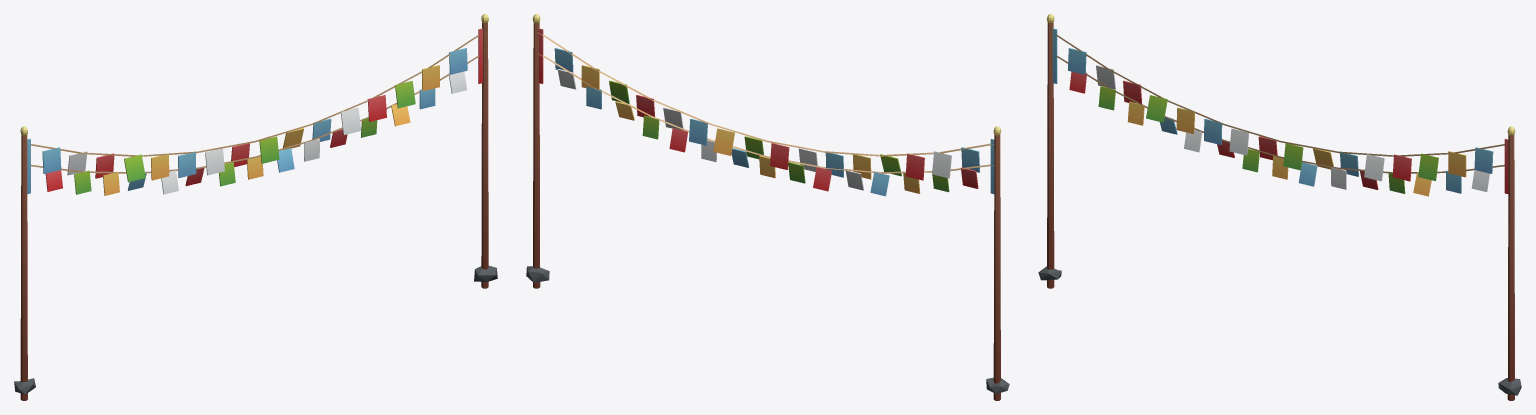
Rendered from prayer_flags.glb.
3 renders of one model, left to right at view 1: azimuth 30°, elevation 25°; view 2: azimuth 150°, elevation 25°; view 3: azimuth 330°, elevation 25°, orthographic.
Visible parts, largest first — view 1: prayer_flags; view 2: prayer_flags; view 3: prayer_flags.
Boxes of the visible parts, x1,y1,x2,y2 form: prayer_flags: (14, 14, 497, 400); prayer_flags: (526, 14, 1009, 400); prayer_flags: (1038, 14, 1521, 400).
Size of the model in its own units: 8.35 by 4.53 by 0.3385.
Materials: 1 (1 with a texture image).
